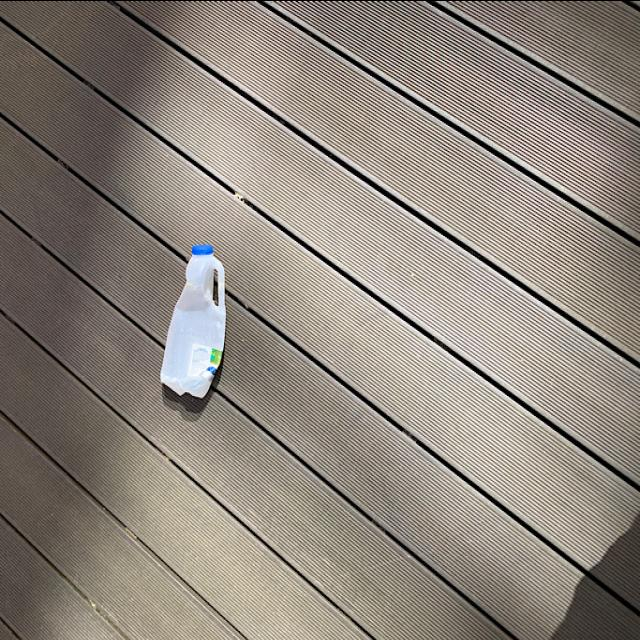litter: (156, 242, 228, 396)
